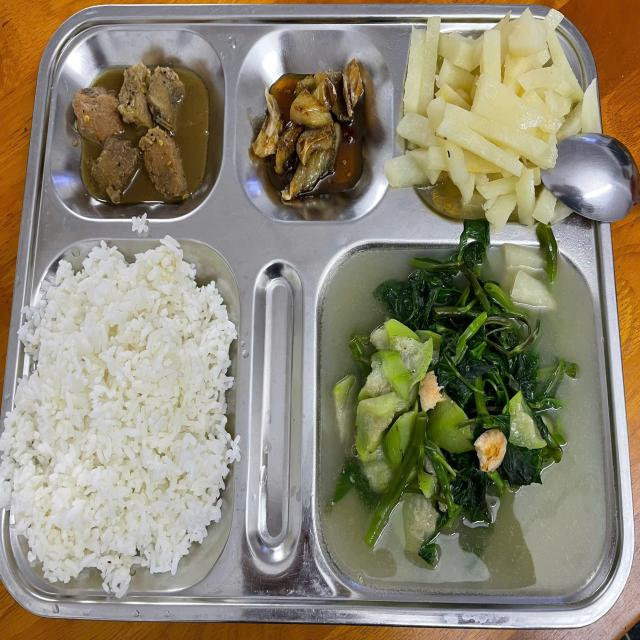canhmuop: (317, 253, 615, 603)
khoailuoc: (395, 22, 605, 239)
muopkho: (246, 58, 381, 209)
salad: (2, 242, 240, 611)
thitkhogung: (64, 56, 214, 214)
